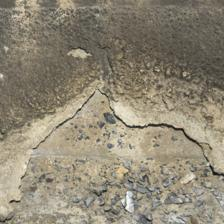Crack: (81, 28, 167, 160), (67, 0, 156, 105)
